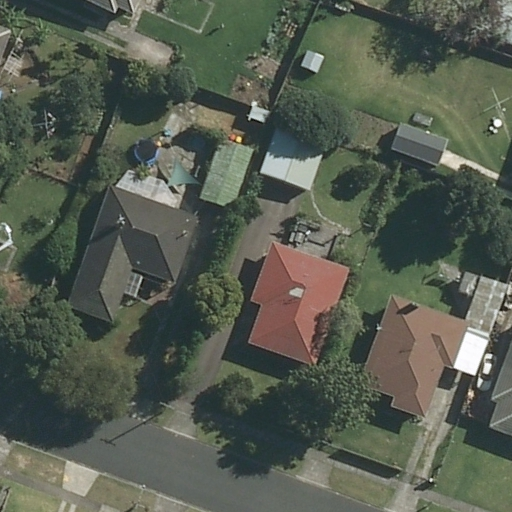DT: (155, 398, 176, 415)
